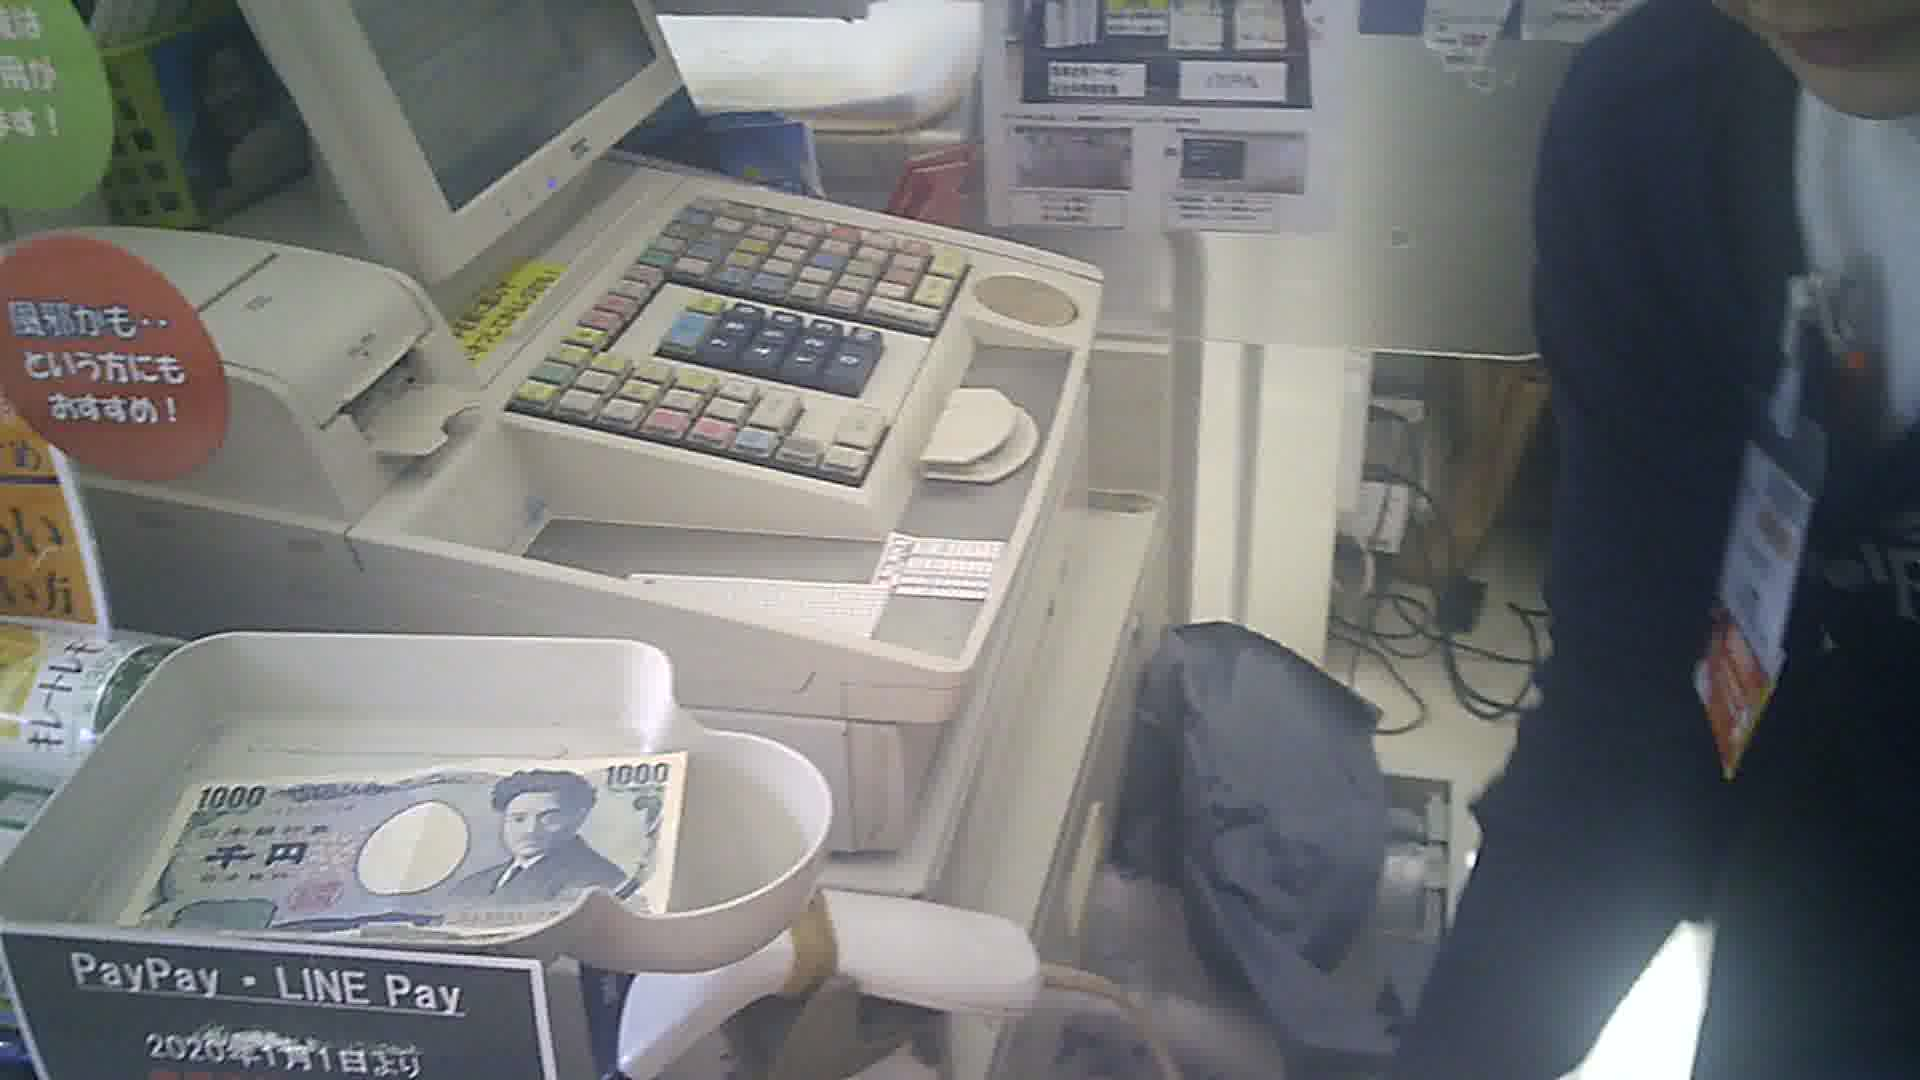1,000 Yen: (125, 752, 678, 942)
